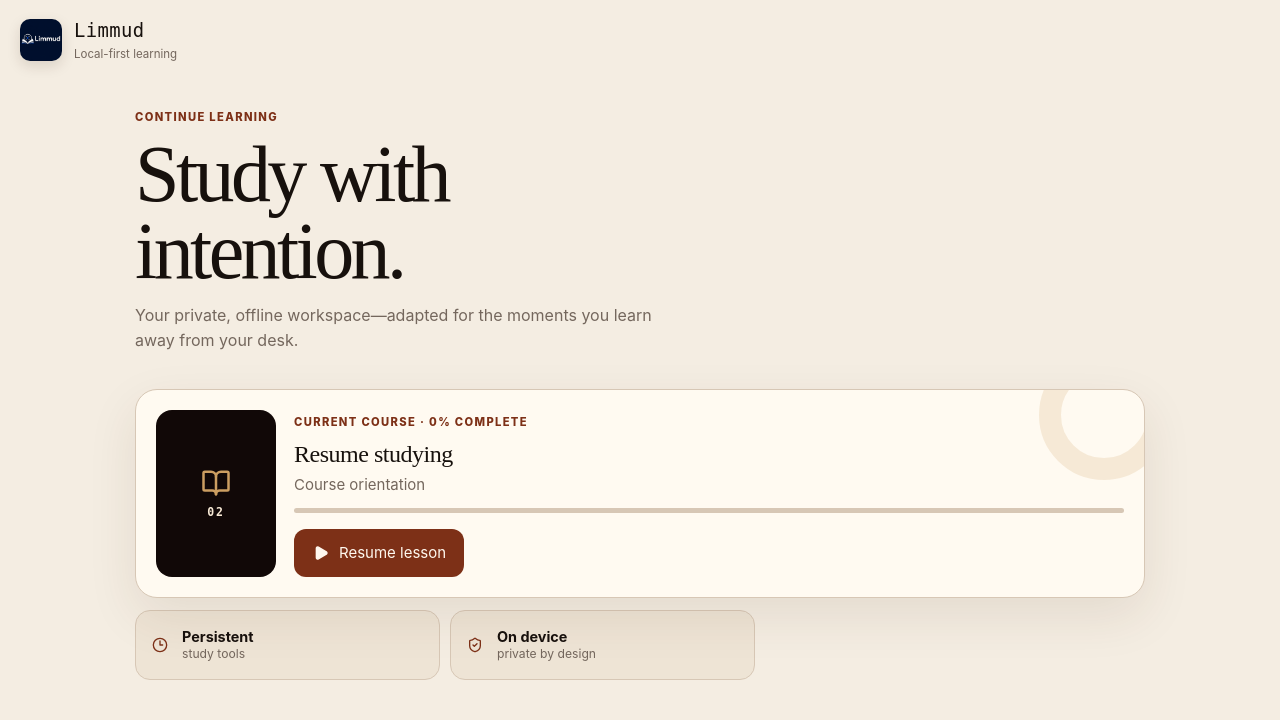
Test: Limmud mobile shell › loads an existing lesson note and reports Saved only after verified save
Expected: the heading "Resume studying" is shown, [294,441,453,467]
Click the button "Resume lesson": (379,553) [294,529,464,577]
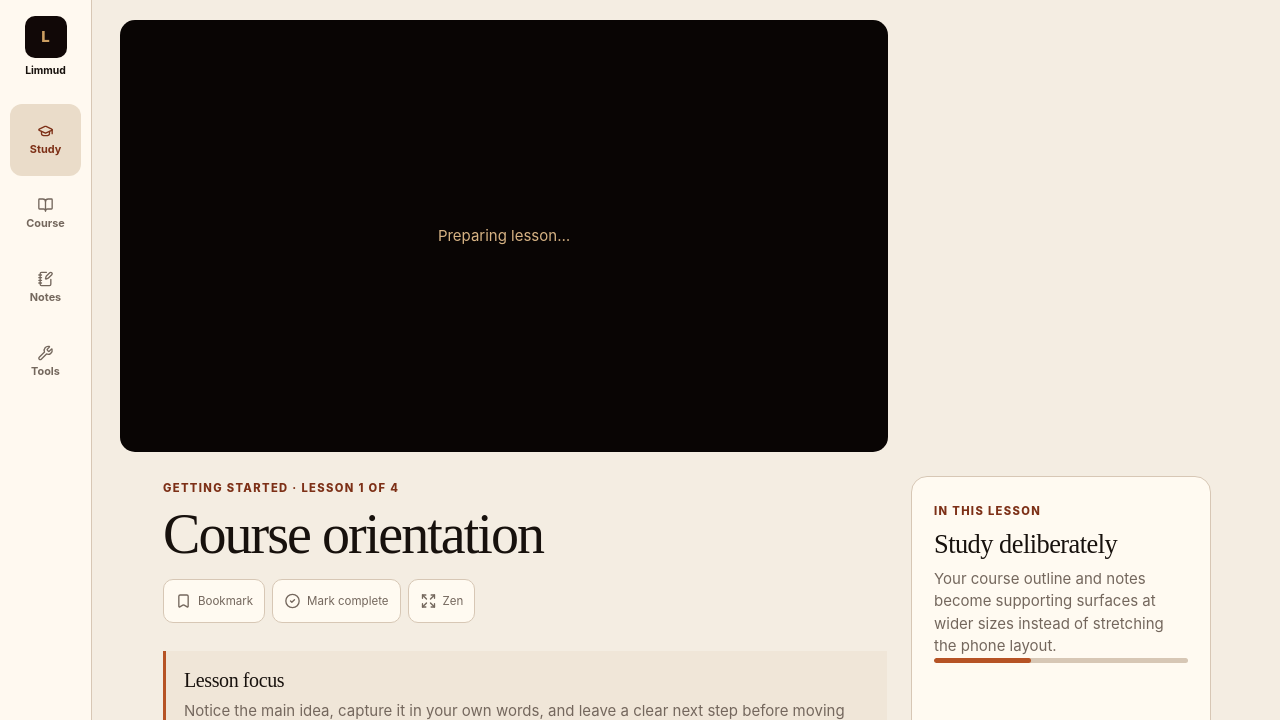
Click the button "Notes": (46,288) [10,252,81,324]
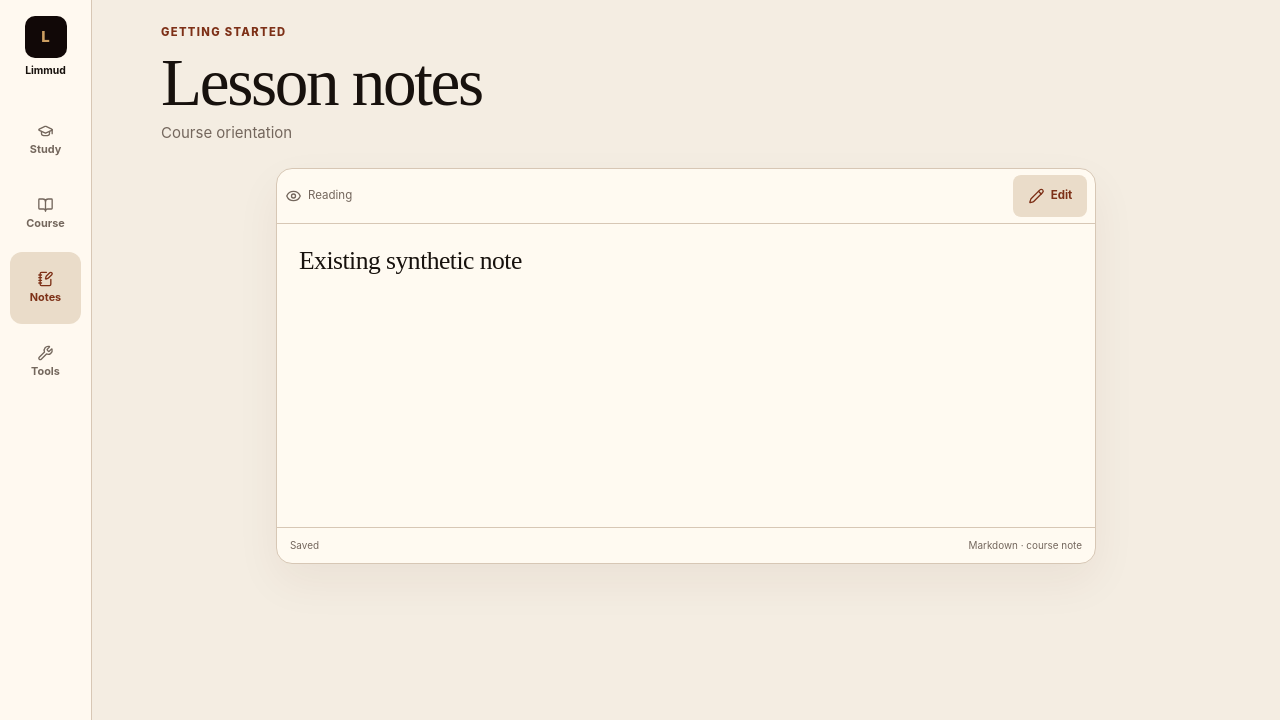
Result: the heading "Existing synthetic note" is shown at [299,246,522,275]
Click the button with aria-label "edit note": (1050,196) [1013,175,1087,217]
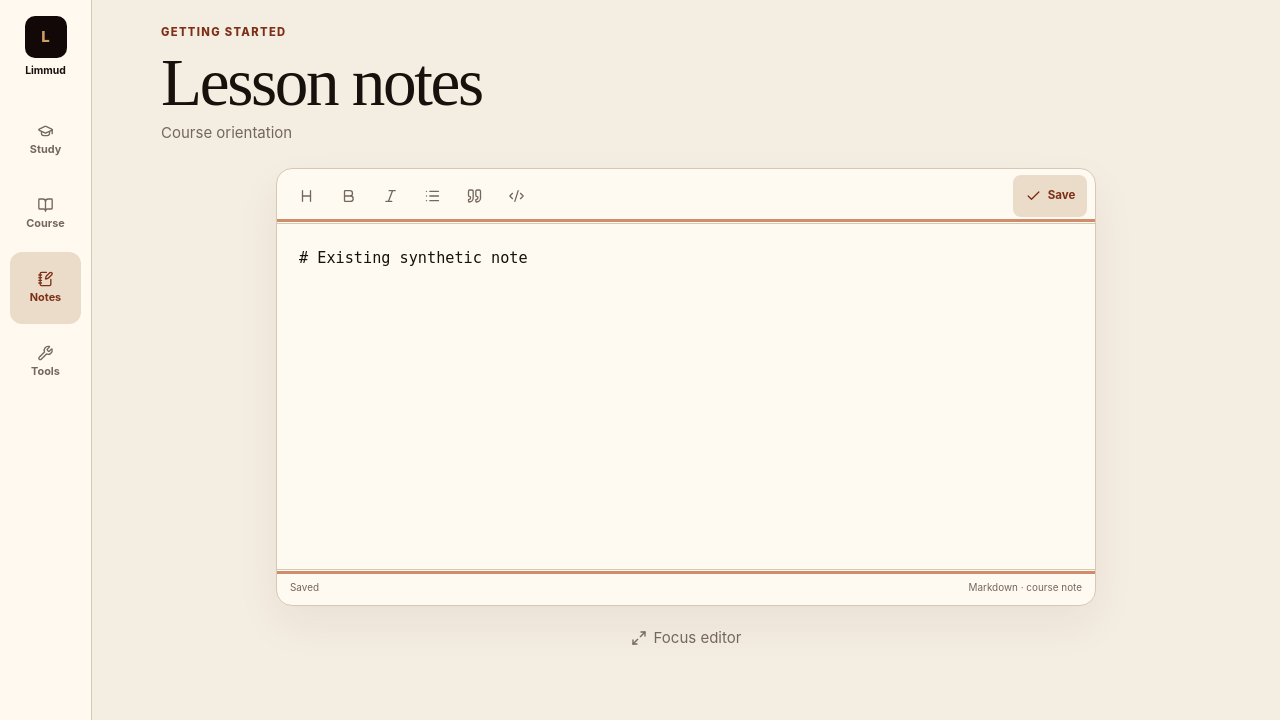
Replace the text in the text box named "markdown note" with "# Updated synthetic note": (686,396) [277,224,1095,569]
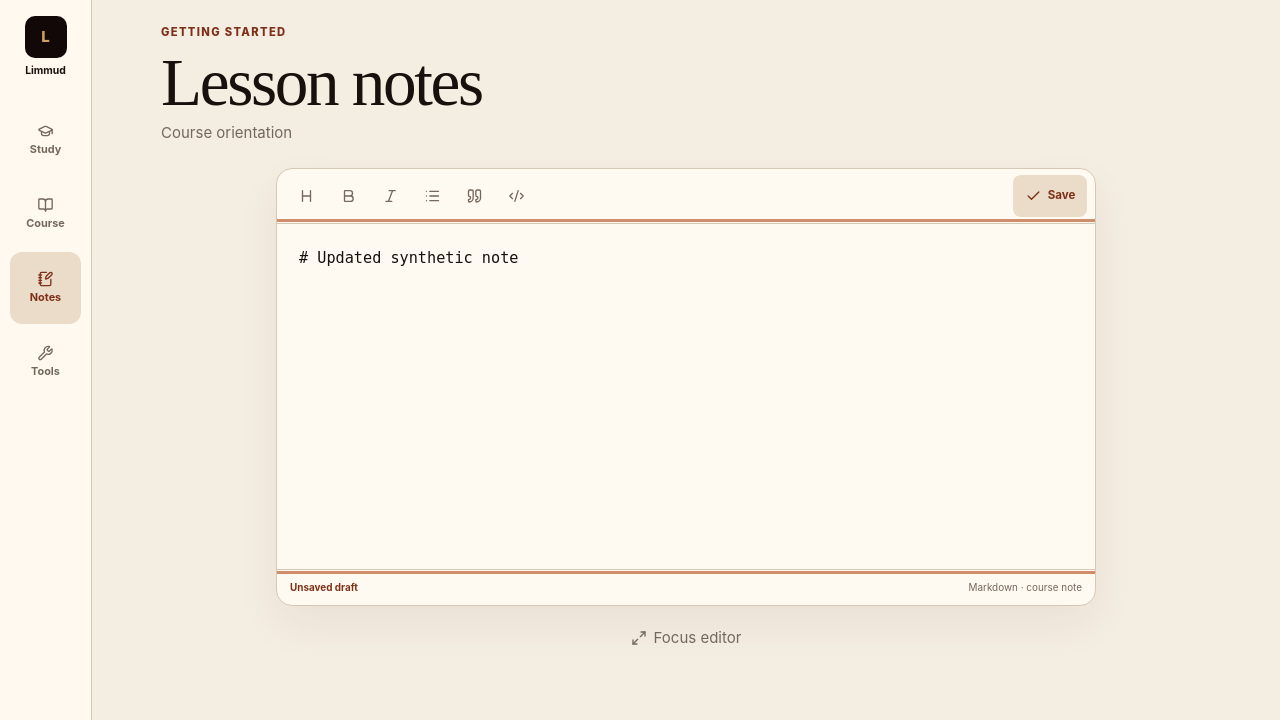
Click the button with aria-label "save note": (1050,196) [1013,175,1087,217]
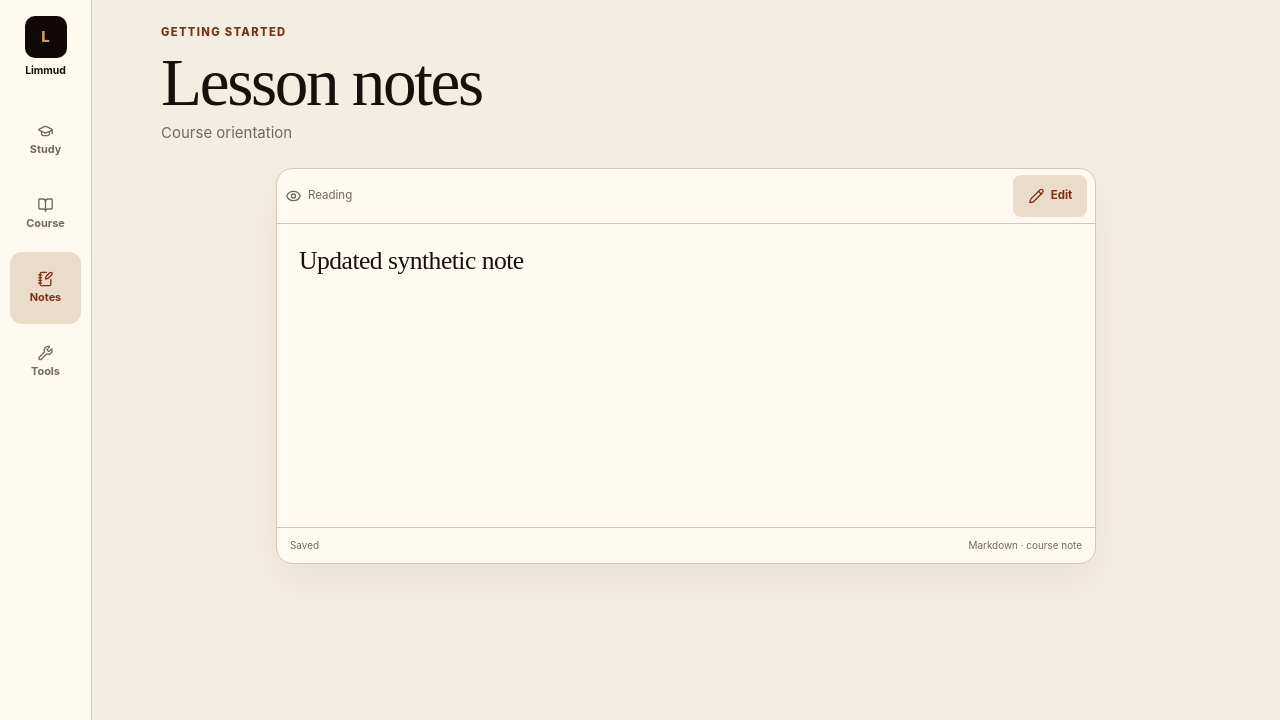
Result: the text "Saved" is shown at [290,538,319,553]
